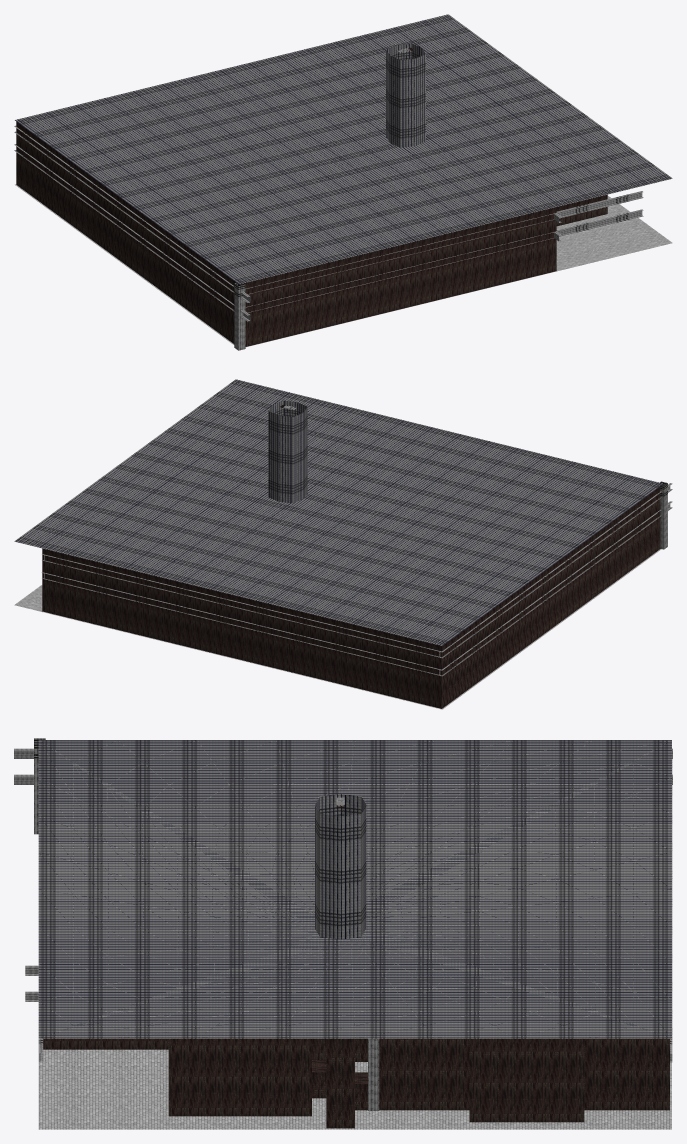
Rendered from map.obj.
3 views of the same model, one above another, from view 1: azimuth 30°, elevation 25°; view 2: azimuth 150°, elevation 25°; view 3: azimuth 270°, elevation 25° (orthographic). The views are drawn at different scales.
Parts seen in each view (by area): view 1: Plane.018, Cube, Cube.012, Plane.001, Cube.013; view 2: Plane.018, Cube, Cube.012, Plane.001, Cube.013; view 3: Plane.018, Cube, Plane.001, Cube.013, Cube.012.
Boxes of the visible parts, bbox=[...] form: Plane.018: bbox=[15, 14, 672, 284]; Cube: bbox=[16, 121, 607, 346]; Cube.012: bbox=[14, 125, 643, 321]; Plane.001: bbox=[15, 184, 672, 347]; Cube.013: bbox=[234, 283, 245, 350]; Plane.018: bbox=[14, 379, 663, 645]; Cube: bbox=[42, 485, 662, 708]; Cube.012: bbox=[41, 483, 672, 676]; Plane.001: bbox=[14, 549, 661, 709]; Cube.013: bbox=[660, 481, 667, 549]; Plane.018: bbox=[38, 740, 671, 1038]; Cube: bbox=[43, 1038, 669, 1128]; Plane.001: bbox=[38, 1049, 671, 1129]; Cube.013: bbox=[34, 738, 379, 1110]; Cube.012: bbox=[14, 748, 672, 1062].
Size of the model in its own units: 49.57 by 17.2 by 46.
10 materials, 10 textured.
